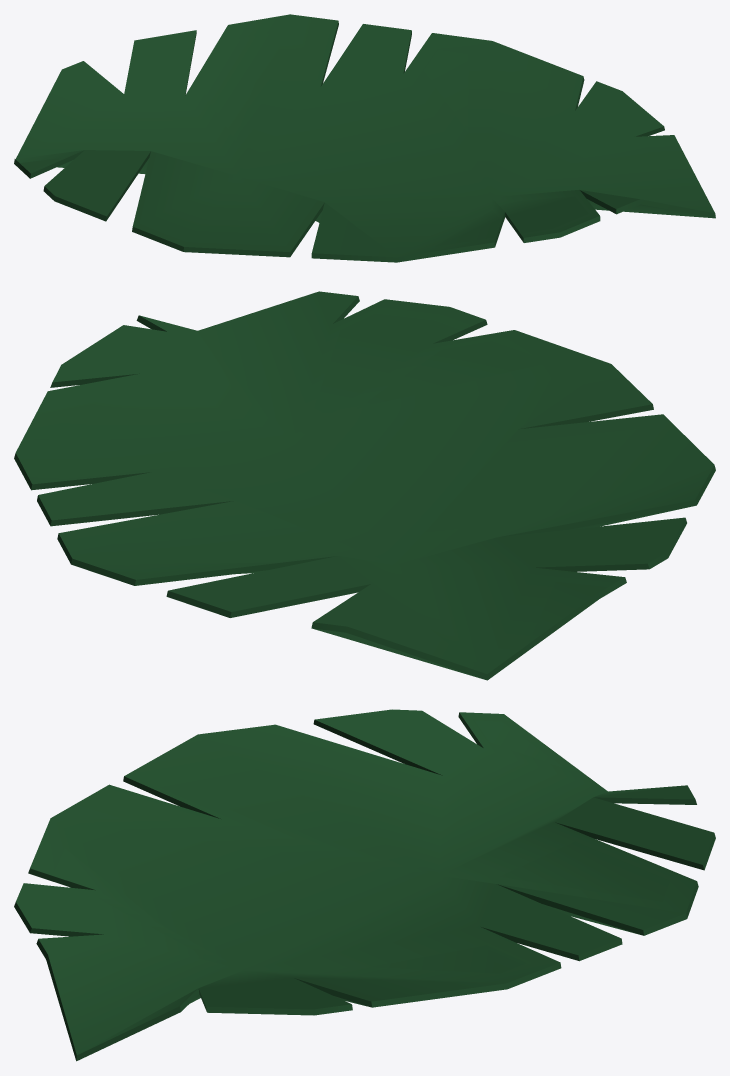
The model's file is JungleLeaf.fbx.
The picture shows the model from 3 angles, top to bottom: view 1: azimuth 30°, elevation 25°; view 2: azimuth 150°, elevation 25°; view 3: azimuth 270°, elevation 25°; orthographic projection. The views are drawn at different scales.
Parts seen in each view (by area): view 1: pPlane1; view 2: pPlane1; view 3: pPlane1.
Boxes of the visible parts, left/top/right/bottom form: pPlane1: left=14, top=14, right=715, bottom=262; pPlane1: left=14, top=291, right=715, bottom=680; pPlane1: left=14, top=709, right=715, bottom=1061.
Bounding box in the file's own units: 11.6 × 1.03 × 11.42.
